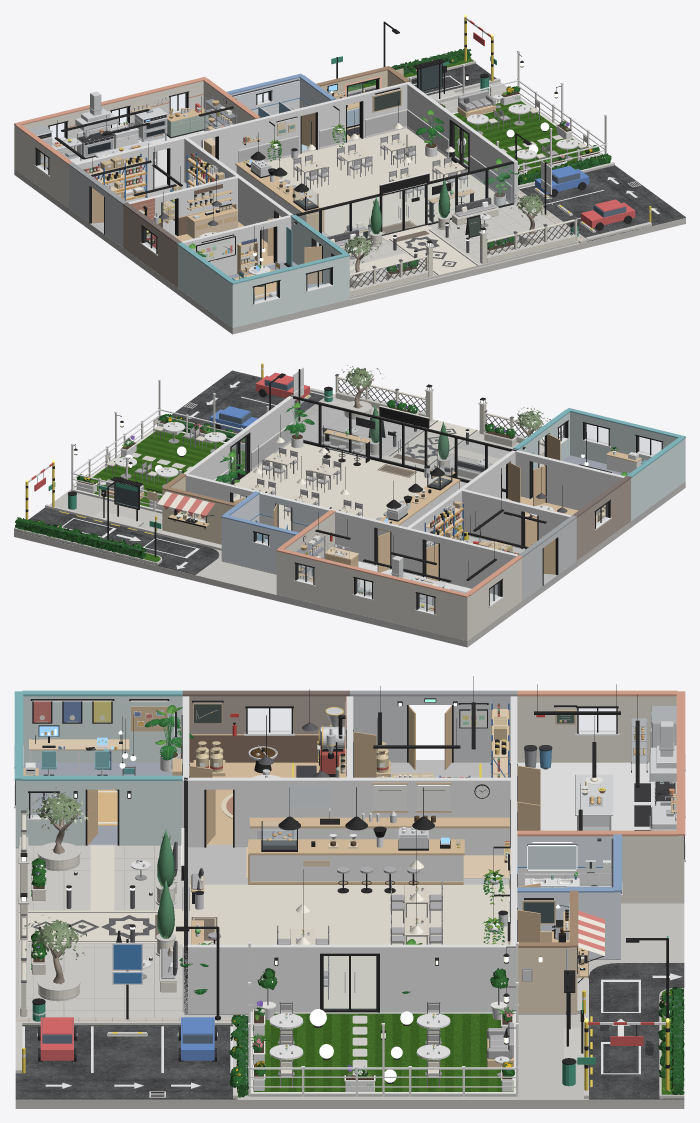
File: cafe_only.glb
The picture shows the model from 3 angles, top to bottom: view 1: azimuth 30°, elevation 25°; view 2: azimuth 150°, elevation 25°; view 3: azimuth 270°, elevation 25°; orthographic projection. The views are drawn at different scales.
Parts seen in each view (by area): view 1: CafeFloor, CafePlot, Parking_Asphalt, Entrance_Slab, Wall_BackRight_Solid1, Mkt_West_SolidEnd, Wall_BackLeft_SolidEnd, Terrace_MowStripes, Terrace_Grass, Wall_FrontRight_A, Entrance_Runner, Wall_Roast_Store_SolidEnd (+48 smaller); view 2: CafePlot, CafeFloor, Entrance_Slab, DriveThru_Lane, Parking_Asphalt, Wall_Mkt_Roast_Solid0, Wall_Store_Kitchen_Solid0, Wall_Roast_Store_SolidEnd, Mkt_West_SolidEnd, Terrace_Grass, Kitchen_North_Solid1, Terrace_MowStripes (+56 smaller); view 3: CafeFloor, CafePlot, Entrance_Slab, Parking_Asphalt, Wall_BackLeft_SolidEnd, Wall_FrontRight_B, Wall_FrontRight_A, DriveThru_Lane, Terrace_Grass, Terrace_MowStripes, Mkt_West_SolidEnd, Counter_Body (+74 smaller).
Part boxes in pixels (<box>): CafeFloor: <box>267,128,509,238</box>; CafePlot: <box>14,82,685,334</box>; Parking_Asphalt: <box>519,165,685,241</box>; Entrance_Slab: <box>348,203,578,298</box>; Wall_BackRight_Solid1: <box>217,108,300,170</box>; Mkt_West_SolidEnd: <box>178,245,230,325</box>; Wall_BackLeft_SolidEnd: <box>182,136,277,242</box>; Terrace_MowStripes: <box>455,101,584,173</box>; Terrace_Grass: <box>453,102,585,174</box>; Wall_FrontRight_A: <box>469,129,517,204</box>; Entrance_Runner: <box>387,229,479,275</box>; Wall_Roast_Store_SolidEnd: <box>176,176,237,216</box>; CafePlot: <box>14,425,685,647</box>; CafeFloor: <box>233,443,460,530</box>; Entrance_Slab: <box>294,397,544,488</box>; DriveThru_Lane: <box>14,507,219,574</box>; Parking_Asphalt: <box>171,370,324,433</box>; Wall_Mkt_Roast_Solid0: <box>546,458,624,514</box>; Wall_Store_Kitchen_Solid0: <box>440,536,517,594</box>; Wall_Roast_Store_SolidEnd: <box>462,489,523,548</box>; Mkt_West_SolidEnd: <box>631,440,683,520</box>; Terrace_Grass: <box>76,431,244,507</box>; Kitchen_North_Solid1: <box>373,575,416,628</box>; Terrace_MowStripes: <box>90,432,244,504</box>; CafeFloor: <box>189,884,509,1008</box>; CafePlot: <box>15,848,684,1108</box>; Entrance_Slab: <box>19,845,184,1017</box>; Parking_Asphalt: <box>15,1025,236,1099</box>; Wall_BackLeft_SolidEnd: <box>234,777,517,847</box>; Wall_FrontRight_B: <box>380,944,515,1012</box>; Wall_FrontRight_A: <box>182,944,319,1013</box>; DriveThru_Lane: <box>589,963,684,1099</box>; Terrace_Grass: <box>262,1013,513,1091</box>; Terrace_MowStripes: <box>253,1013,505,1091</box>; Mkt_West_SolidEnd: <box>23,696,182,762</box>; Counter_Body: <box>250,855,463,881</box>.
Bounding box in the file's own units: 24.11 × 3.45 × 20.09.
201 materials, 6 textured.
